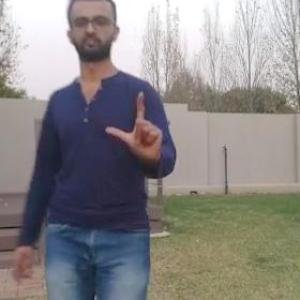land_hand: (107, 87, 166, 165)
